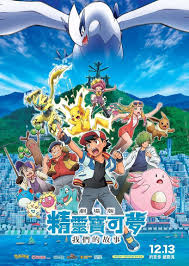lugia: (60, 2, 91, 46)
